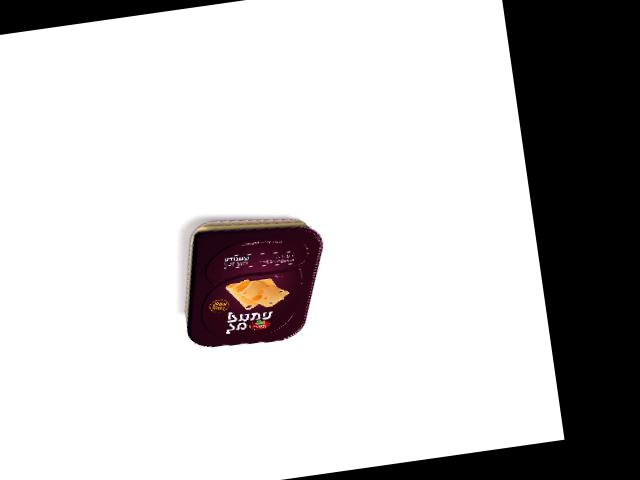cheese: (172, 207, 335, 354)
